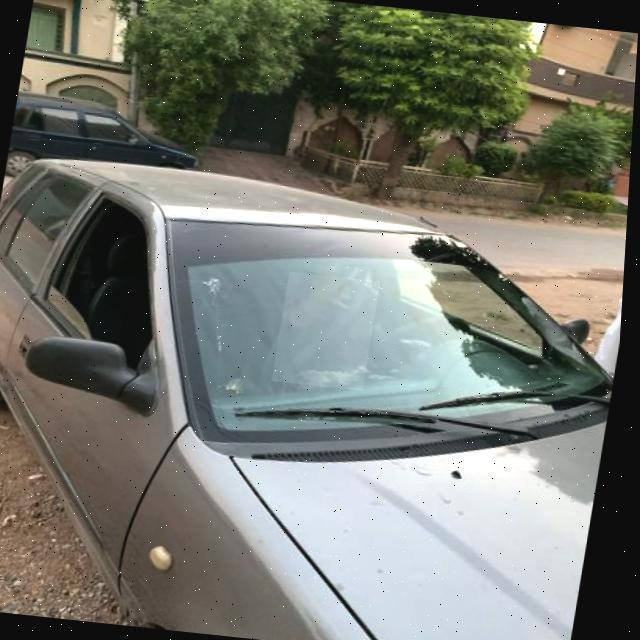seatbelt: (274, 270, 383, 389)
